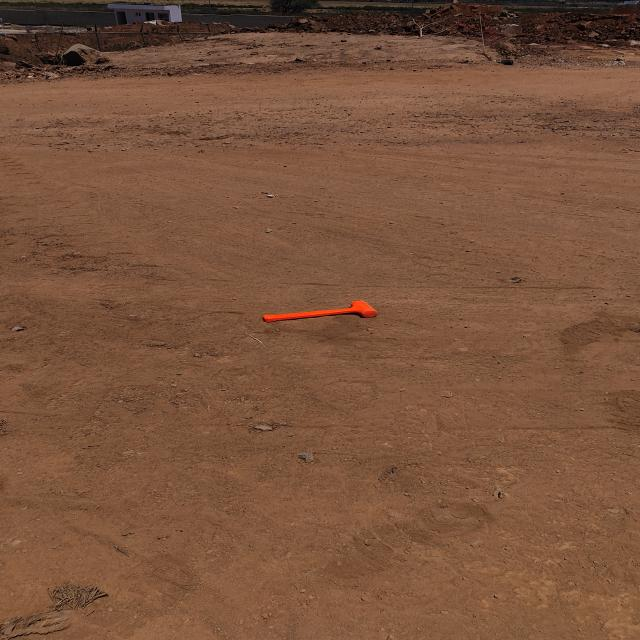Orange_hammer: (260, 299, 378, 323)
